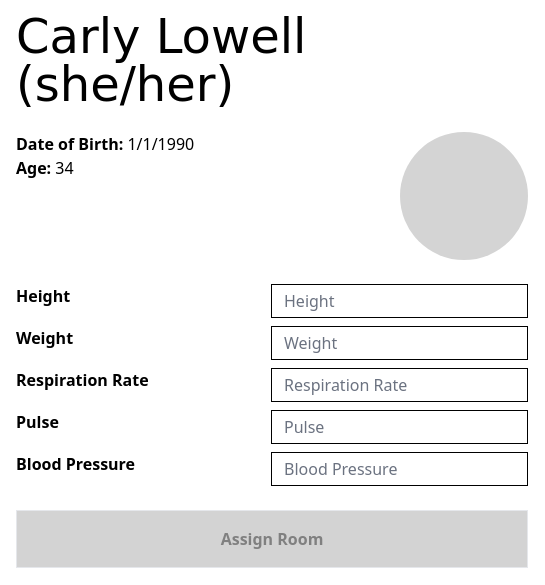
Test: FormInput in CheckIn Page › Check In button is enabled if all InputForms are valid
// Simulate user input
Type "5'10\"" into the field with placeholder "Height" at {"x": 400, "y": 301}, box left=271, top=284, right=528, bottom=318
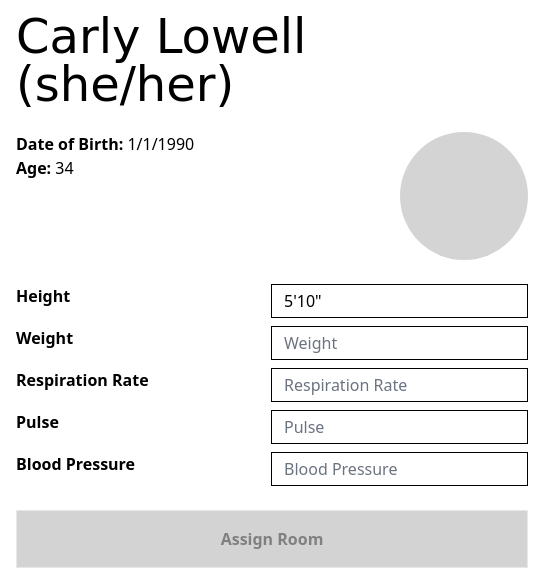
Type "150" into the field with placeholder "Weight" at {"x": 400, "y": 343}, box left=271, top=326, right=528, bottom=360
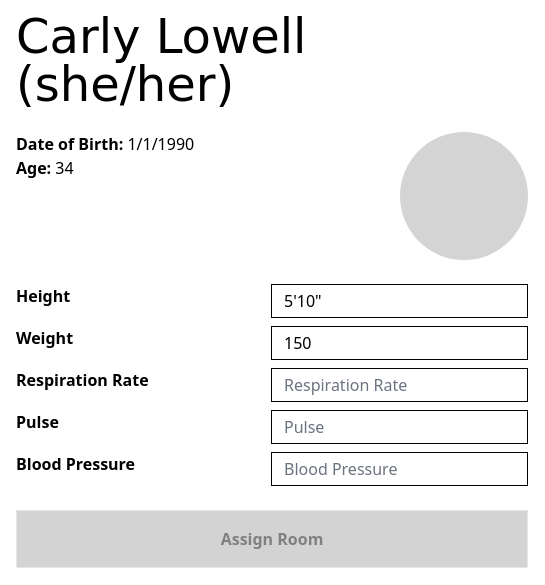
Type "120" into the field with placeholder "Respiration Rate" at {"x": 400, "y": 385}, box left=271, top=368, right=528, bottom=402
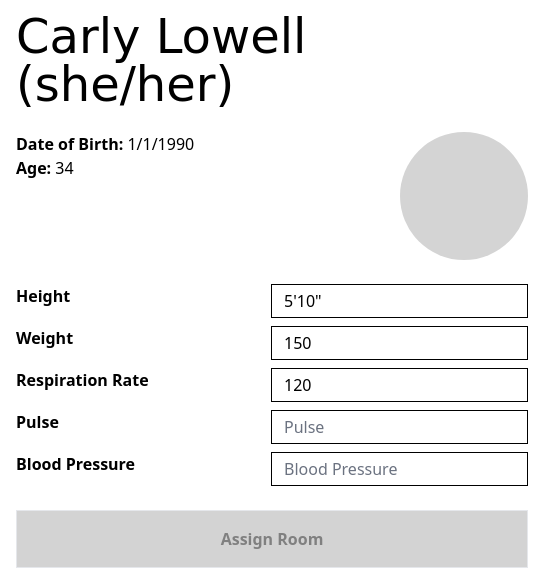
Type "70" into the field with placeholder "Pulse" at {"x": 400, "y": 427}, box left=271, top=410, right=528, bottom=444
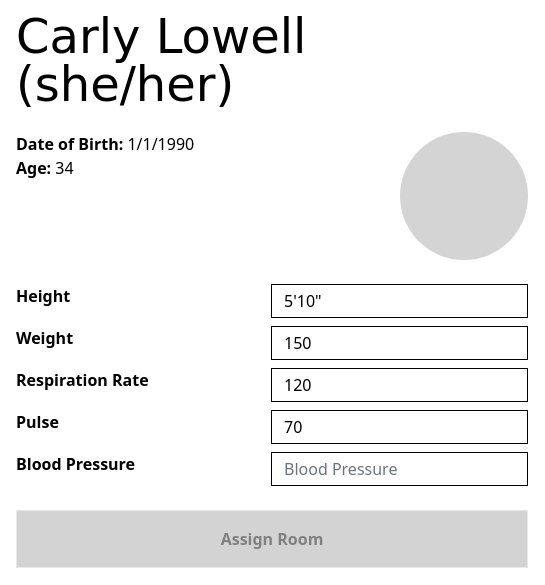
Type "120/60" into the field with placeholder "Blood Pressure" at {"x": 400, "y": 469}, box left=271, top=452, right=528, bottom=486
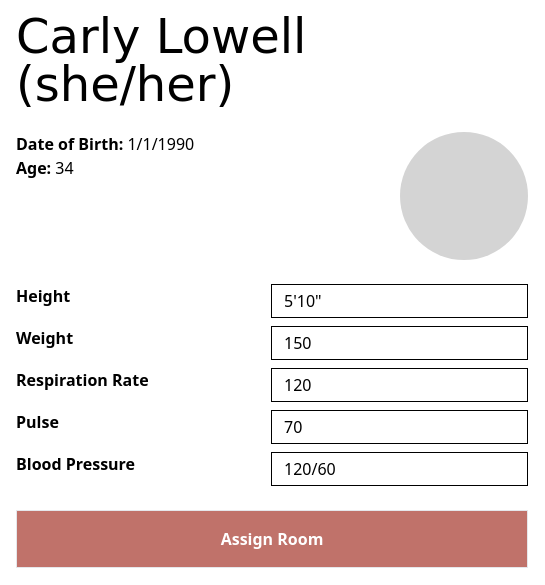
Now the button "Assign Room" is enabled, box left=16, top=510, right=528, bottom=568
